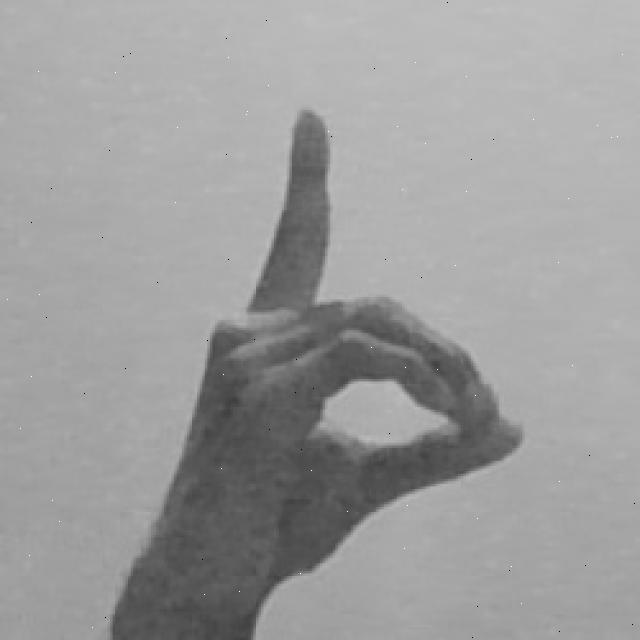D: (104, 107, 522, 640)
